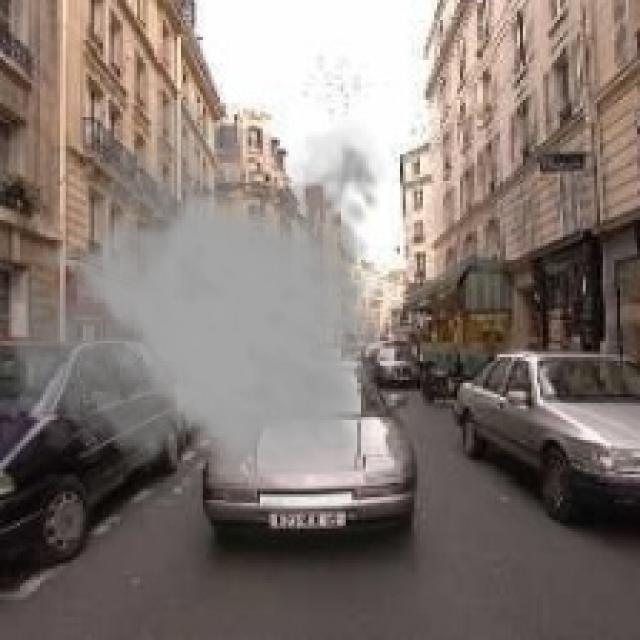smoke: (6, 97, 391, 503)
